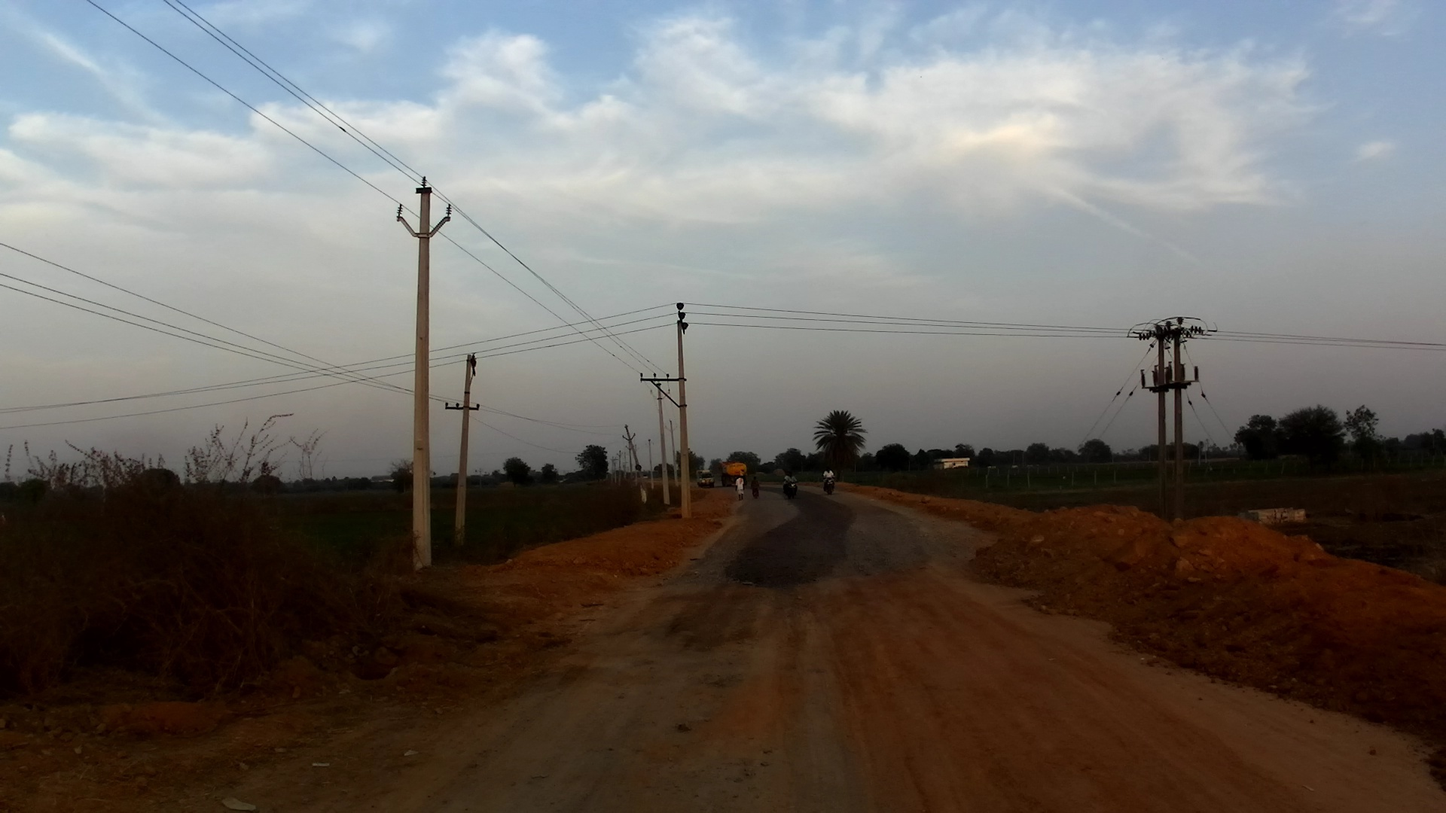car: (697, 467, 718, 487)
motorcycle: (782, 479, 799, 499), (822, 478, 837, 499)
person: (733, 473, 748, 504), (750, 479, 761, 498)
rider: (820, 467, 837, 492), (783, 471, 797, 498)
truck: (721, 457, 750, 491)
